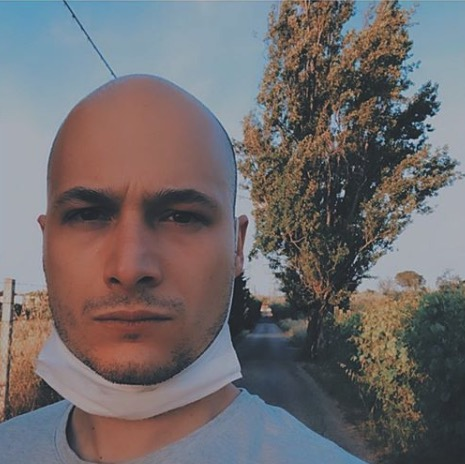mask_weared_incorrect: (50, 161, 238, 411)
